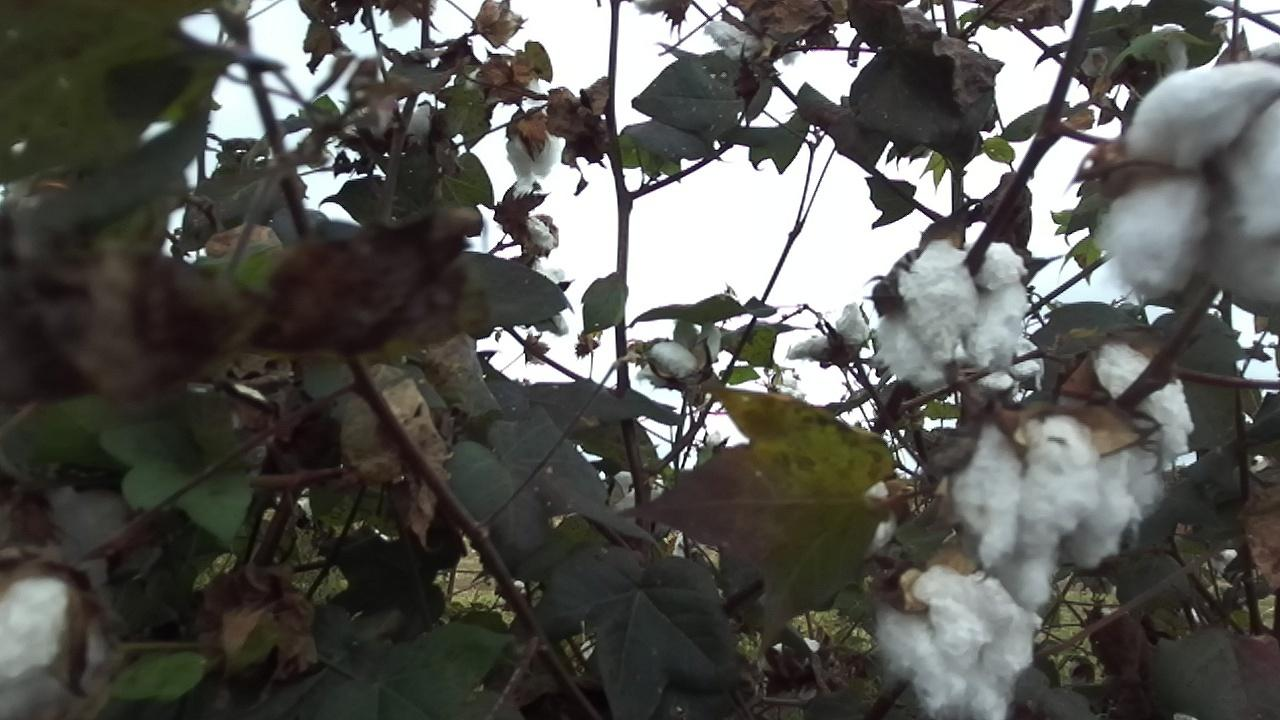cotton_ready: (945, 419, 1170, 609), (1109, 61, 1280, 307), (872, 567, 1042, 720), (875, 239, 1025, 386), (1097, 340, 1196, 513), (0, 570, 100, 720), (635, 319, 720, 391), (785, 307, 872, 364), (501, 179, 555, 260), (507, 117, 559, 182), (704, 17, 778, 62)
